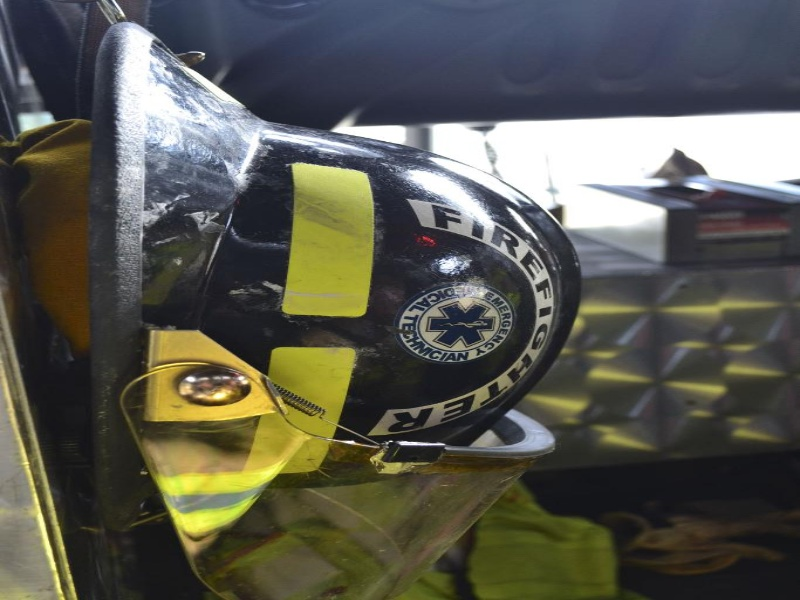helmet: (128, 53, 587, 520)
